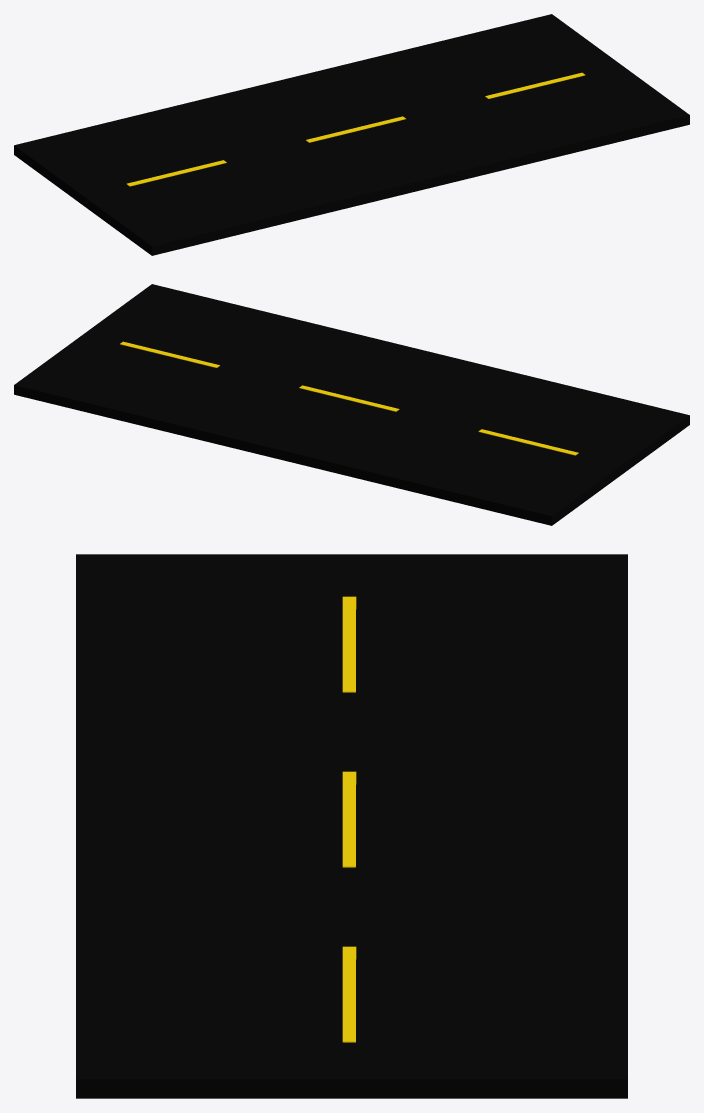
The model's file is Road Straight.fbx.
3 renders of one model, top to bottom at view 1: azimuth 30°, elevation 25°; view 2: azimuth 150°, elevation 25°; view 3: azimuth 270°, elevation 25°, orthographic. The views are drawn at different scales.
Visible parts, largest first — view 1: Cube; view 2: Cube; view 3: Cube.
Part boxes in pixels (<box>): Cube: <box>14,14,689,255</box>; Cube: <box>14,284,689,525</box>; Cube: <box>76,554,627,1098</box>.
Bounding box in the file's own units: 1800 × 32.28 × 800.
1 material, 1 textured.
